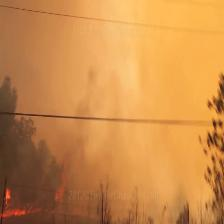fire: (0, 164, 68, 224)
